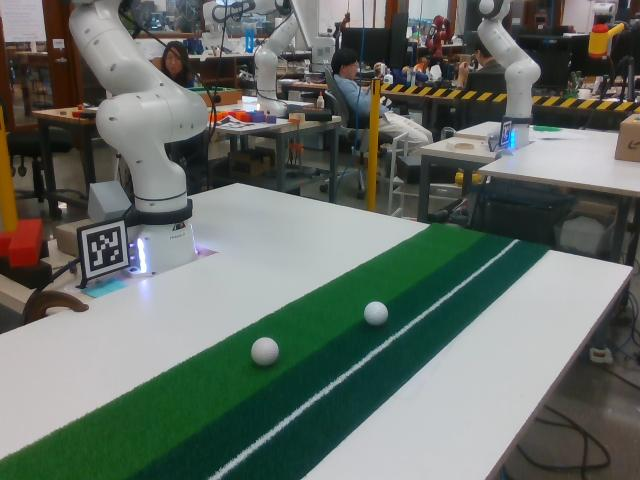golf_balls: (251, 337, 278, 364), (364, 301, 388, 325)
